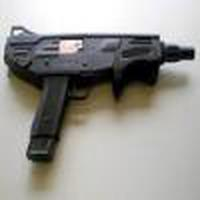gun: (3, 23, 191, 163)
